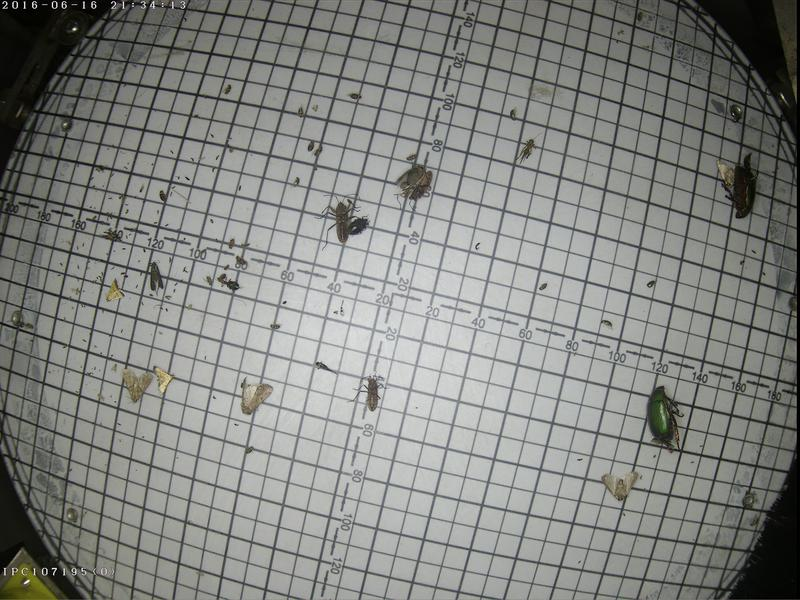Rice Leaf Roller: (152, 363, 172, 391), (104, 281, 122, 299)
